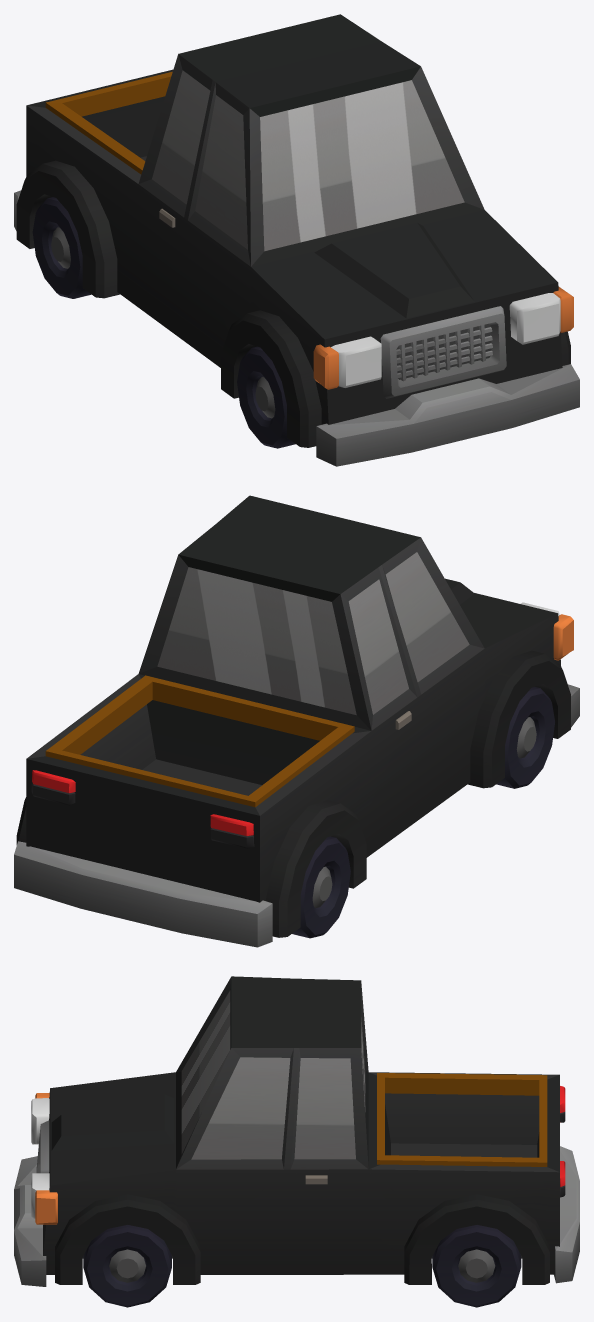
File: PickUp_10.fbx
The picture shows the model from 3 angles, top to bottom: view 1: azimuth 30°, elevation 25°; view 2: azimuth 150°, elevation 25°; view 3: azimuth 270°, elevation 25°; orthographic projection. The views are drawn at different scales.
Parts seen in each view (by area): view 1: PickUp_10, BWhel_BR, BWhel_FR; view 2: PickUp_10, BWhel_BR, BWhel_FR; view 3: PickUp_10, BWhel_BL, BWhel_FL.
Boxes of the visible parts, <box> form: PickUp_10: <box>14,14,579,466</box>; BWhel_BR: <box>32,197,91,298</box>; BWhel_FR: <box>237,346,295,448</box>; PickUp_10: <box>14,495,579,947</box>; BWhel_BR: <box>292,836,350,938</box>; BWhel_FR: <box>496,687,554,788</box>; PickUp_10: <box>14,976,579,1286</box>; BWhel_BL: <box>432,1225,521,1307</box>; BWhel_FL: <box>83,1225,171,1307</box>.
Size of the model in its own units: 109 by 108 by 230.
